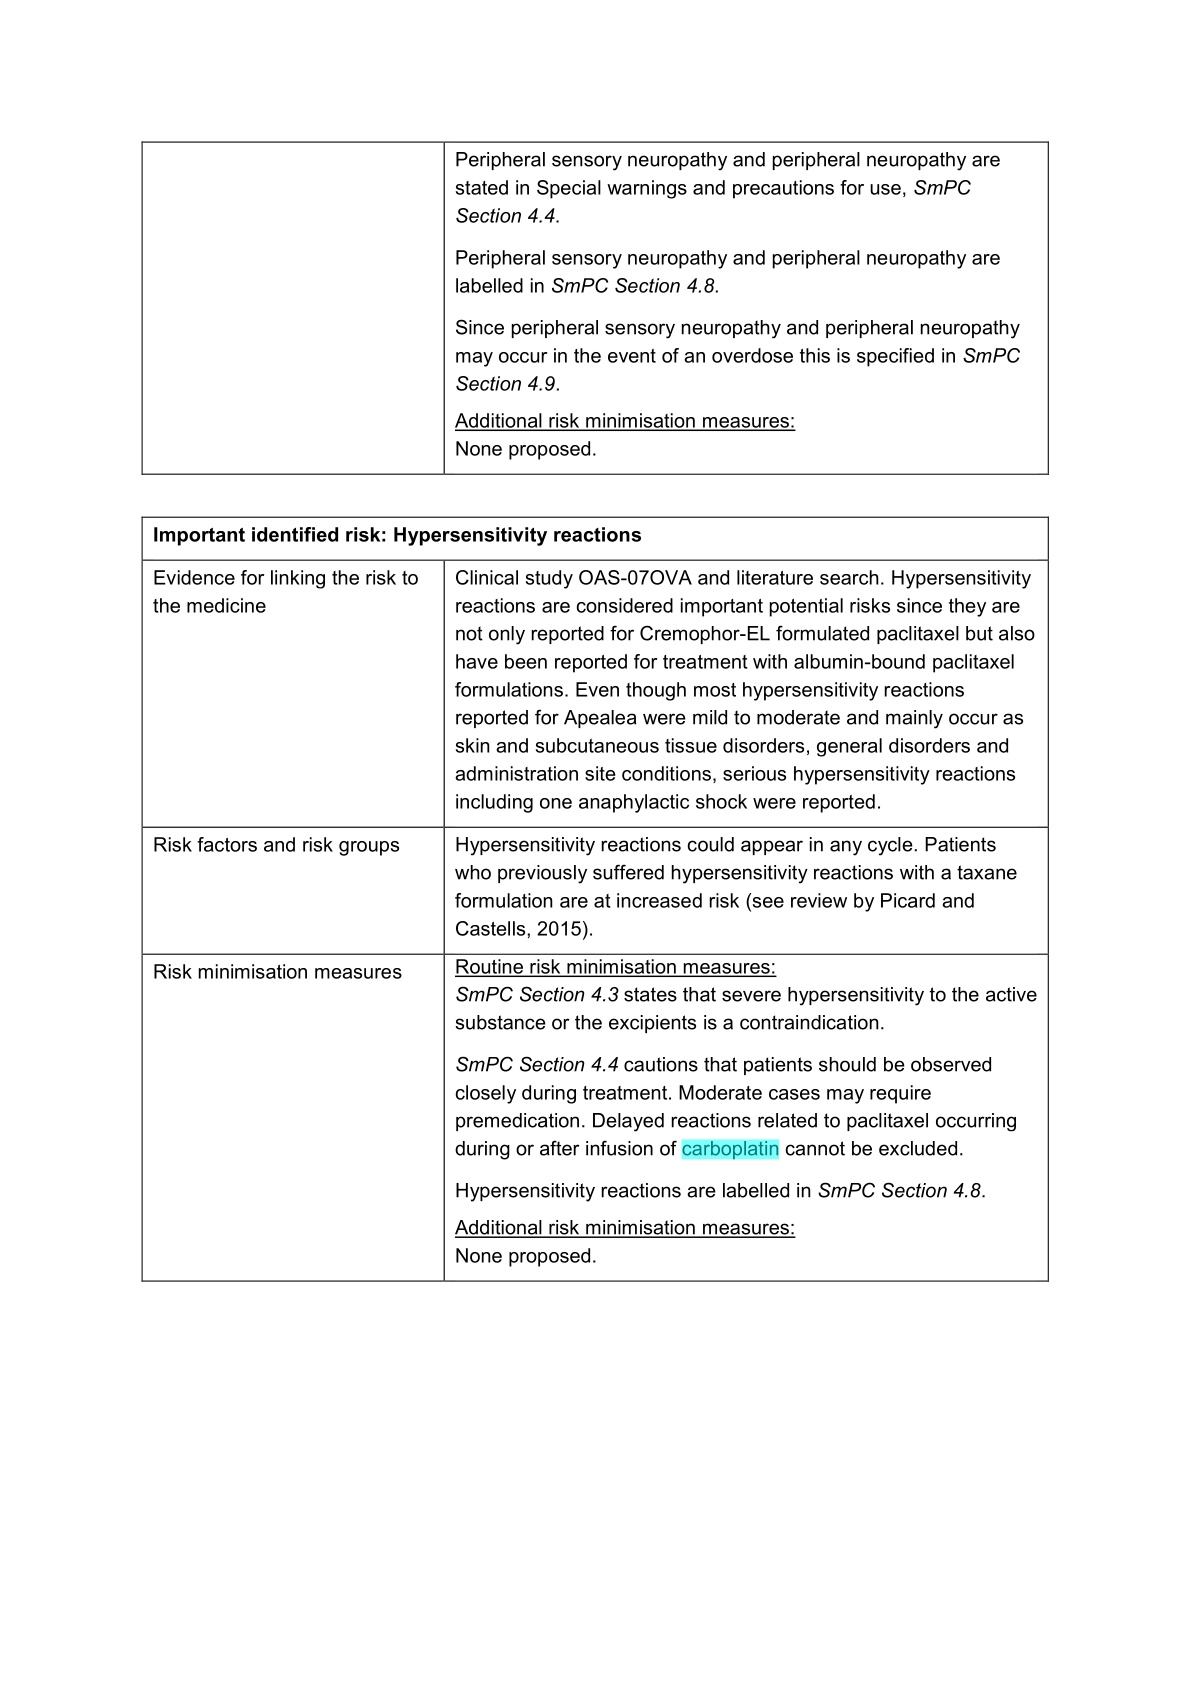full_lined: (140, 139, 1051, 475)
merged_cells: (140, 515, 1051, 1283)
